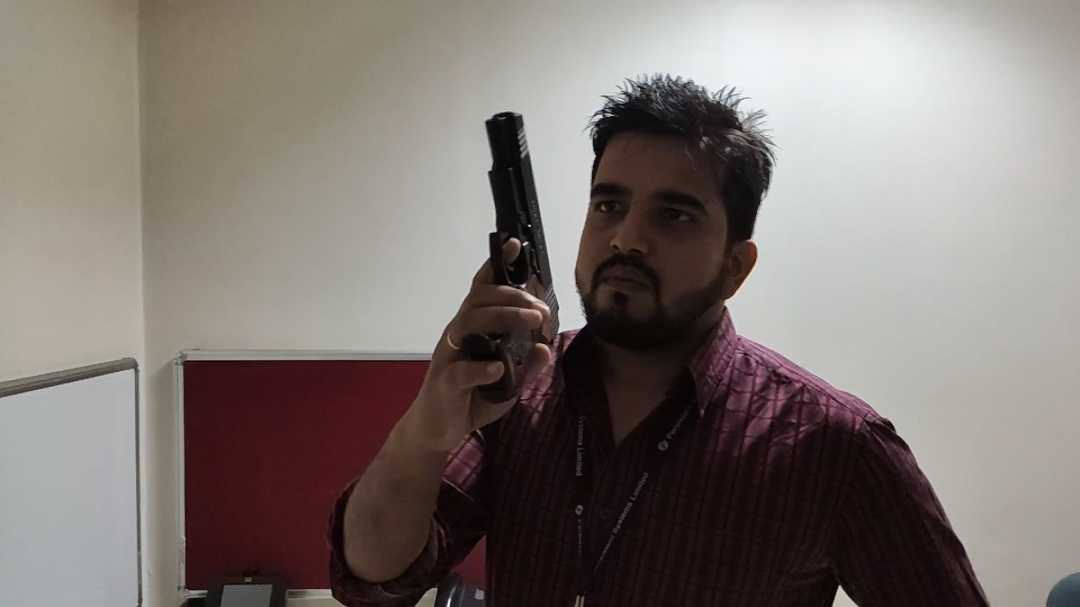gun: (481, 107, 566, 413)
